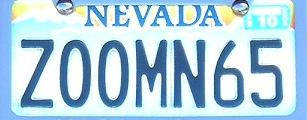0: (58, 37, 94, 112), (96, 36, 131, 111)
5: (248, 36, 286, 110)
6: (212, 36, 245, 111)
M: (134, 36, 172, 109)
N: (170, 36, 207, 112)
Z: (14, 36, 56, 110)
